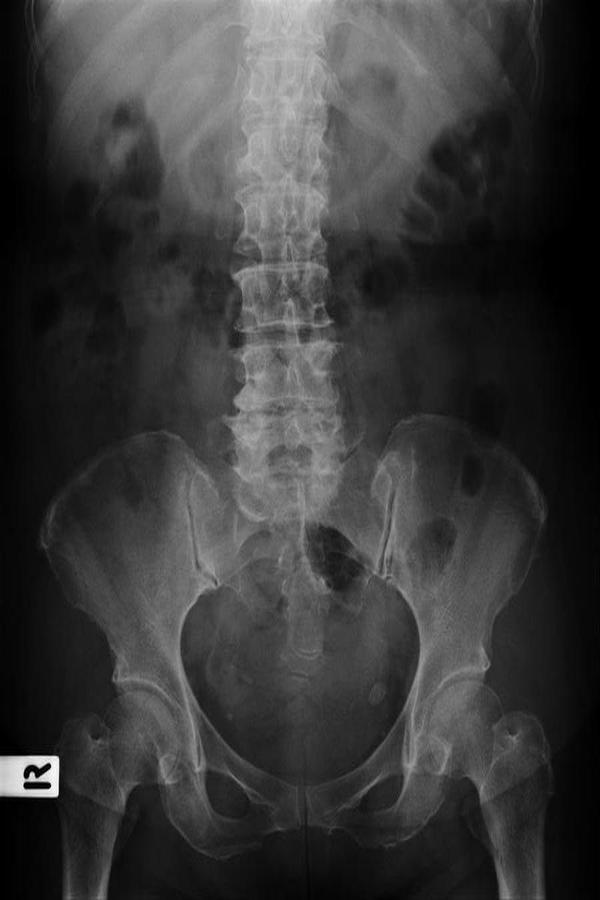lumbar scoliosis: (224, 4, 349, 498)
